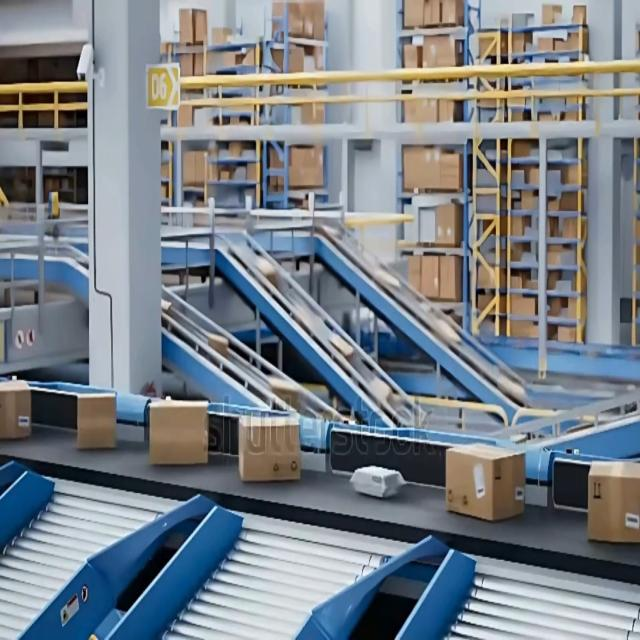product 1: (237, 412, 301, 482), (148, 397, 210, 466), (444, 442, 478, 522), (80, 392, 117, 449)
product 2: (349, 464, 405, 498)
